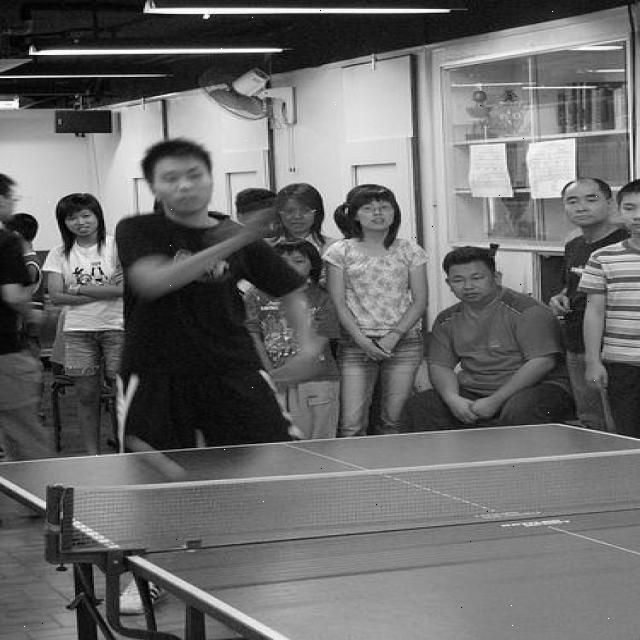ping-pong-ball: (124, 436, 186, 478)
